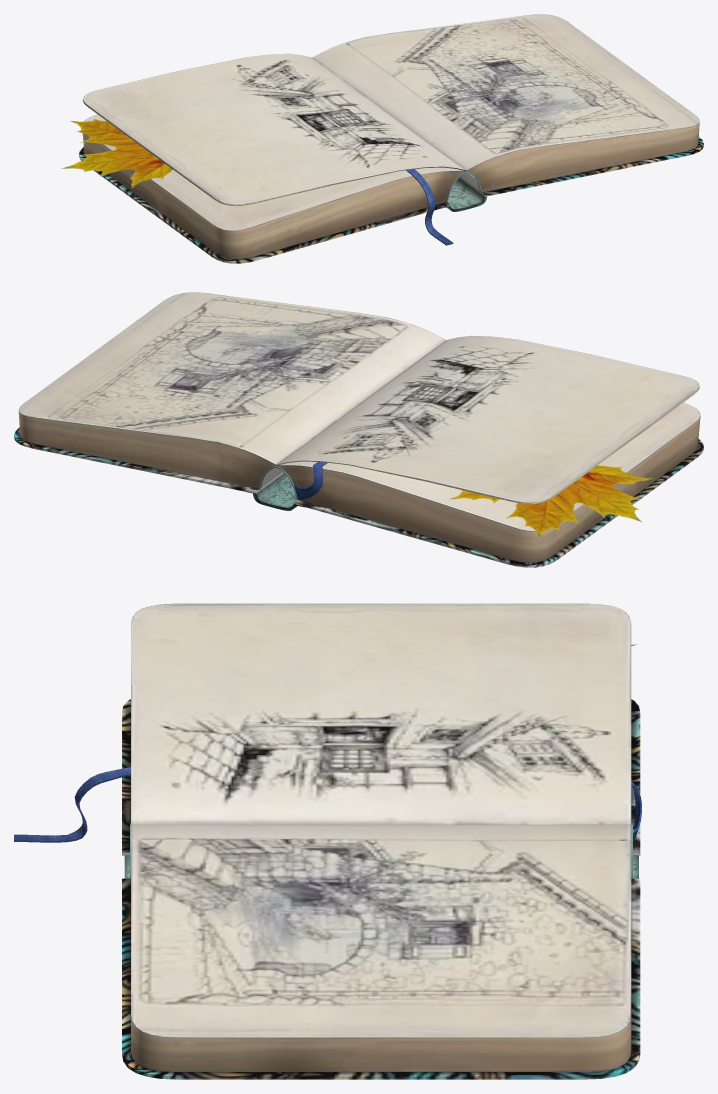
Rendered from sketchbook.glb.
3 renders of one model, top to bottom at view 1: azimuth 30°, elevation 25°; view 2: azimuth 150°, elevation 25°; view 3: azimuth 270°, elevation 25°, orthographic. The views are drawn at different scales.
Parts seen in each view (by area): view 1: Line001_wire_229154215_0, Plane001_wire_198225087_0, Line002_wire_225087143_0; view 2: Line001_wire_229154215_0, Plane001_wire_198225087_0, Line002_wire_225087143_0; view 3: Line001_wire_229154215_0, Line002_wire_225087143_0.
Part boxes in pixels (x1,y1,x2,y2): Line001_wire_229154215_0: [79, 14, 703, 263]; Plane001_wire_198225087_0: [61, 119, 172, 188]; Line002_wire_225087143_0: [406, 169, 486, 245]; Line001_wire_229154215_0: [14, 292, 703, 567]; Plane001_wire_198225087_0: [448, 465, 653, 537]; Line002_wire_225087143_0: [245, 462, 327, 510]; Line001_wire_229154215_0: [122, 603, 640, 1079]; Line002_wire_225087143_0: [14, 767, 641, 878].
Bounding box in the file's own units: 0.3 × 0.0296 × 0.1977.
3 materials, 3 textured.
